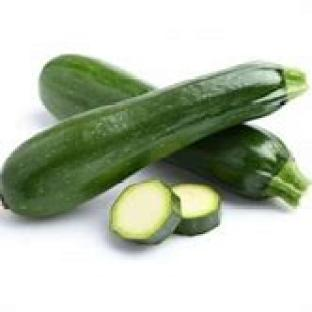Zucchini: (2, 63, 306, 216), (168, 125, 308, 204), (40, 56, 152, 119), (111, 181, 180, 244), (173, 184, 219, 235)
